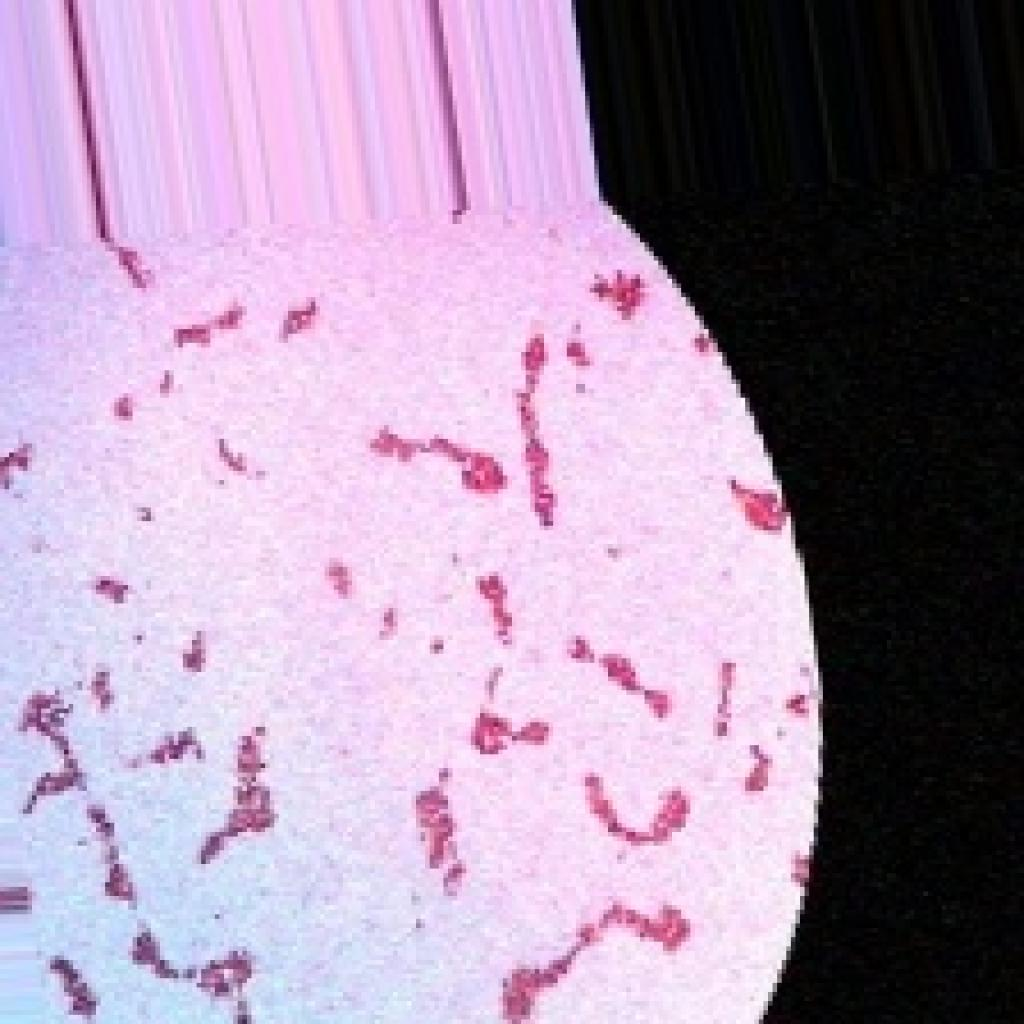Rodbacteria: (0, 0, 827, 1019)
